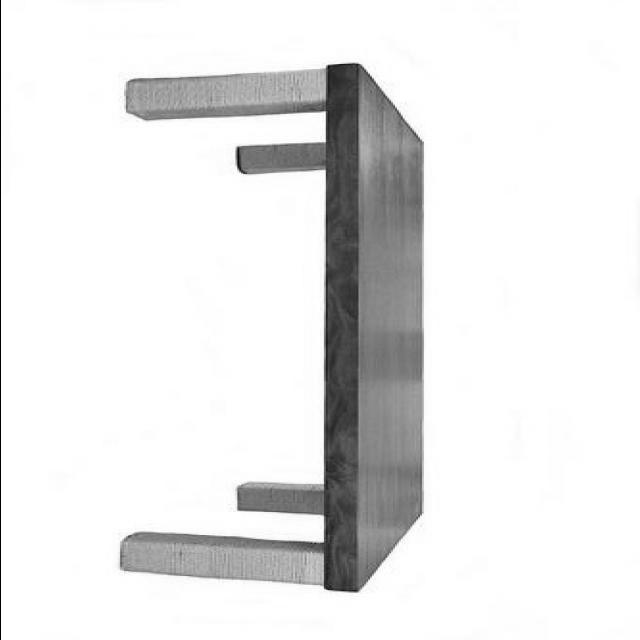table: (116, 64, 426, 592)
